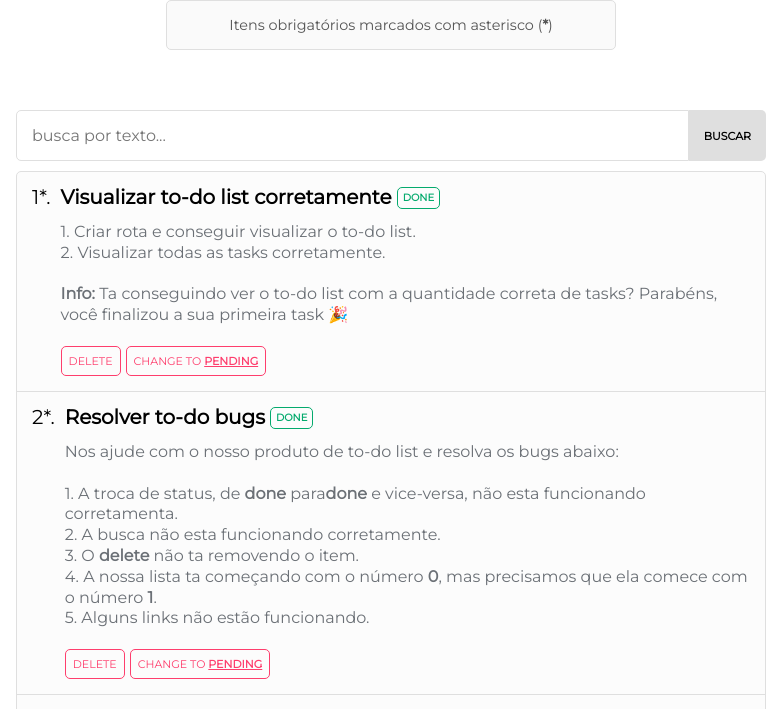
<Todo /> › should delete todo when button delete is cliked
(page scrolled)
Click the button "delete" below "Visualizar to-do list corretamente". click: click(91, 361)
box: [61,346,121,376]
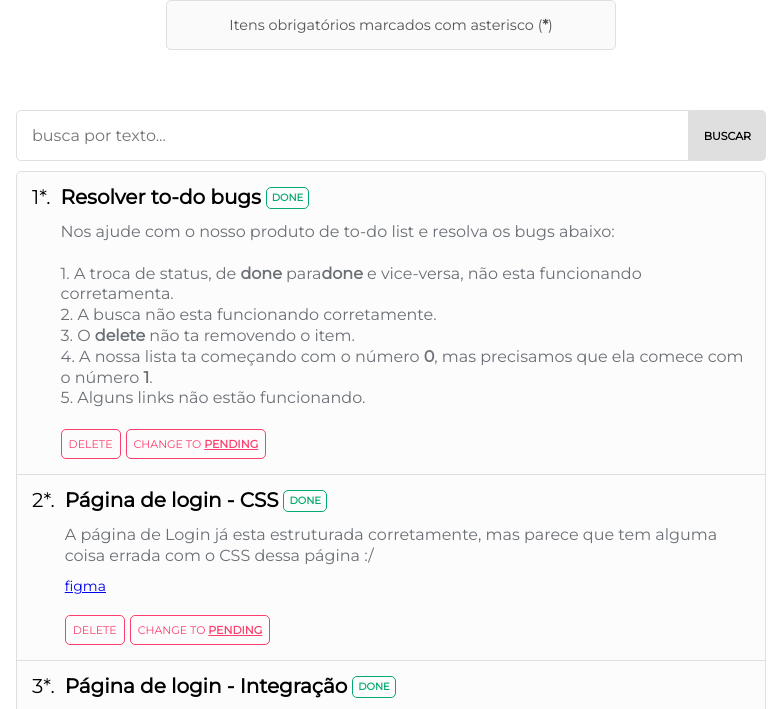
expect the number of list items with test id "todo-item" is 6: met
